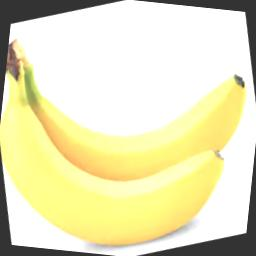Banana Ripe: (0, 34, 256, 255)
